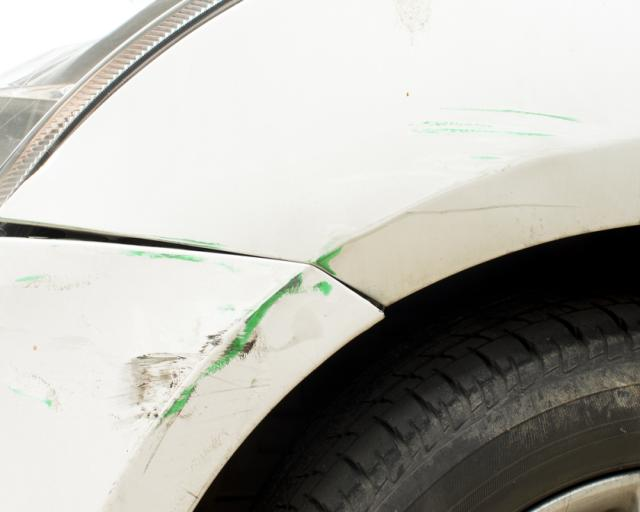scratch: (0, 247, 344, 435), (404, 90, 588, 157)
